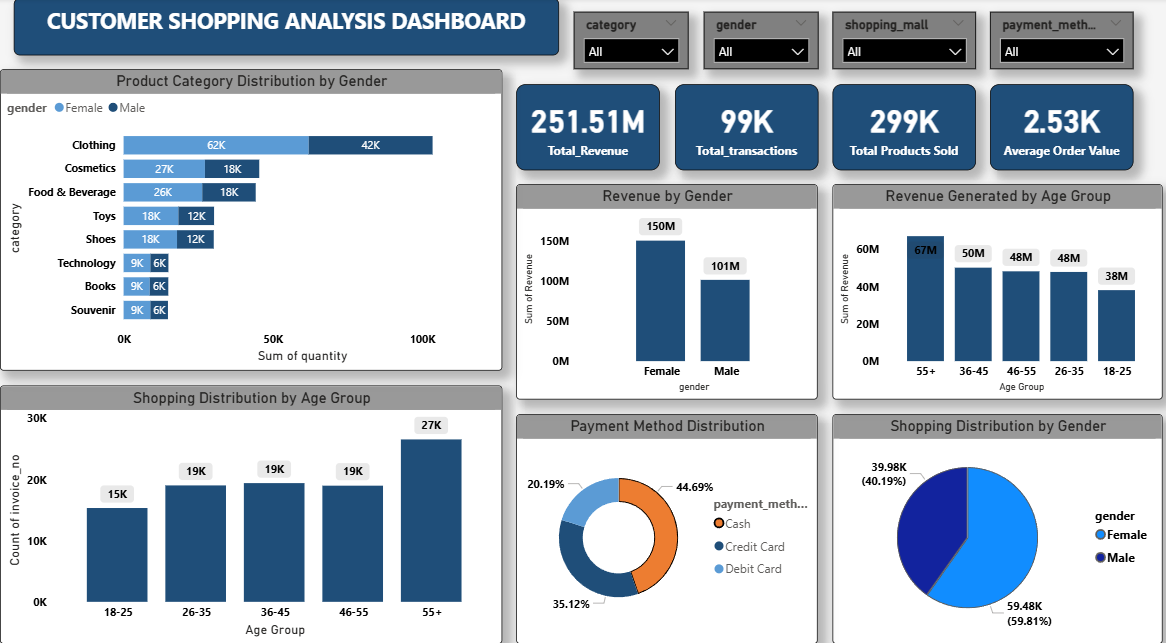

What the dashboard file says about the page in this screenshot:
{"tool":"powerbi","page":{"name":"Customer Analysis Dashboard","canvas":[1300,720],"ordinal":5},"visuals":[{"type":"textbox","box":[16,0,608,64],"z":0},{"type":"card","fields":{"Values":["customer_data.Total_Revenue"]},"box":[576,96,160,96],"z":1000},{"type":"card","fields":{"Values":["customer_data.Total_transactions"]},"box":[752,96,160,96],"z":2000},{"type":"card","fields":{"Values":["customer_data.Total Products Sold"]},"box":[928,96,160,96],"z":3000},{"type":"card","fields":{"Values":["customer_data.Average Order Value"]},"box":[1104,96,160,96],"z":4000},{"type":"slicer","fields":{"Values":["customer_data.category"]},"box":[640,16,128,64],"z":5000},{"type":"slicer","fields":{"Values":["customer_data.gender"]},"box":[784,16,128,64],"z":6000},{"type":"slicer","fields":{"Values":["customer_data.shopping_mall"]},"box":[928,16,160,64],"z":7000},{"type":"pieChart","title":"Shopping Distribution by Gender","fields":{"Category":["customer_data.gender"],"Y":["CountNonNull(customer_data.invoice_no)"]},"box":[928,464,368,256],"z":8000},{"type":"clusteredColumnChart","title":"Shopping Distribution by Age Group","fields":{"Y":["CountNonNull(customer_data.invoice_no)"],"Category":["customer_data.Age Group"]},"box":[0,432,560,288],"z":9000},{"type":"donutChart","title":"Payment Method Distribution","fields":{"Category":["customer_data.payment_method"],"Y":["CountNonNull(customer_data.invoice_no)"]},"box":[576,464,336,256],"z":10000},{"type":"clusteredColumnChart","title":"Revenue by Gender","fields":{"Category":["customer_data.gender"],"Y":["Sum(customer_data.Revenue)"]},"box":[576,208,336,240],"z":11000},{"type":"clusteredColumnChart","title":"Revenue Generated by Age Group","fields":{"Category":["customer_data.Age Group"],"Y":["Sum(customer_data.Revenue)"]},"box":[928,208,368,240],"z":12000},{"type":"barChart","title":"Product Category Distribution by Gender","fields":{"Category":["customer_data.category"],"Y":["Sum(customer_data.quantity)"],"Series":["customer_data.gender"]},"box":[0,80,560,336],"z":13000},{"type":"slicer","fields":{"Values":["customer_data.payment_method"]},"box":[1104,16,160,64],"z":14000}]}

Visuals, with their boxes in screenshot pixels (x1, y1, x2, y2), scaled from the page's 1300x720 canvas onto the 1166x643 screenshot:
textbox: [14,0,560,57]
card - customer_data.Total_Revenue: [517,86,660,171]
card - customer_data.Total_transactions: [674,86,818,171]
card - customer_data.Total Products Sold: [832,86,976,171]
card - customer_data.Average Order Value: [990,86,1134,171]
slicer - customer_data.category: [574,14,689,71]
slicer - customer_data.gender: [703,14,818,71]
slicer - customer_data.shopping_mall: [832,14,976,71]
"Shopping Distribution by Gender" pieChart: [832,414,1162,642]
"Shopping Distribution by Age Group" clusteredColumnChart: [0,386,502,642]
"Payment Method Distribution" donutChart: [517,414,818,642]
"Revenue by Gender" clusteredColumnChart: [517,186,818,400]
"Revenue Generated by Age Group" clusteredColumnChart: [832,186,1162,400]
"Product Category Distribution by Gender" barChart: [0,71,502,372]
slicer - customer_data.payment_method: [990,14,1134,71]
